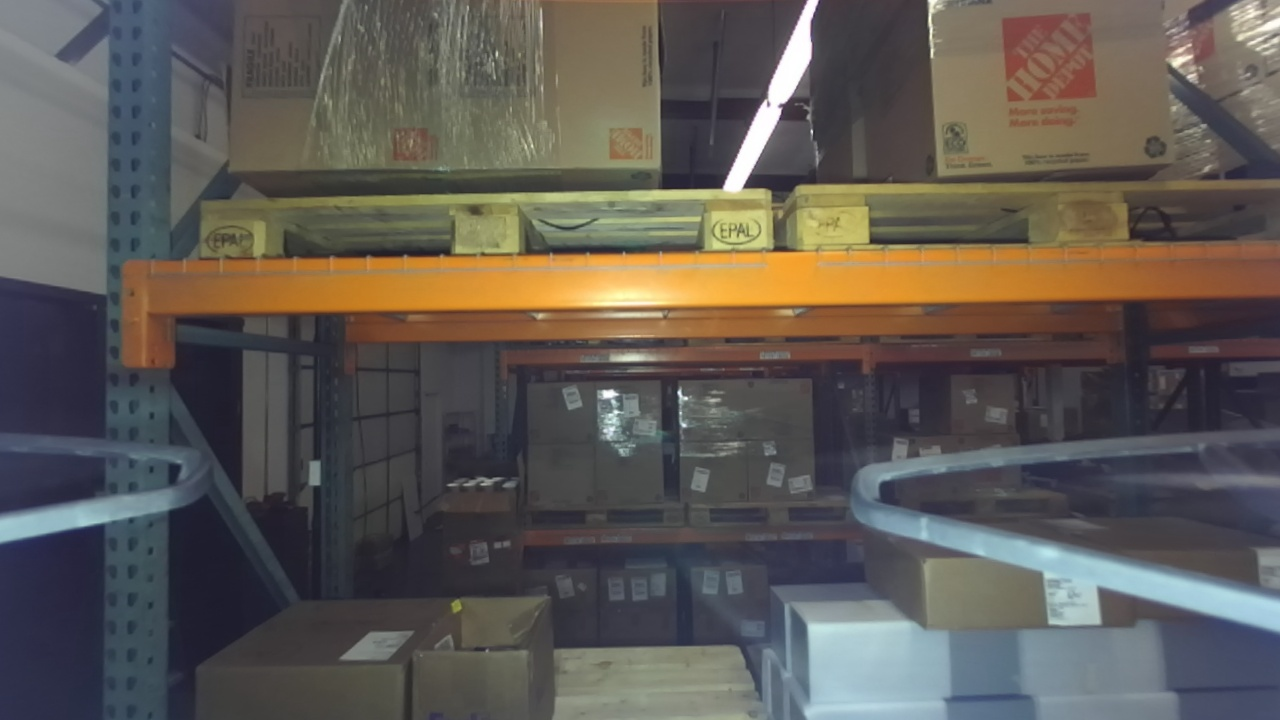box: (858, 1, 1209, 179), (440, 3, 684, 203), (218, 3, 460, 184), (855, 501, 1141, 638)
